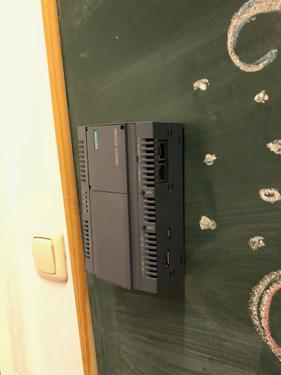device: (78, 122, 185, 294)
